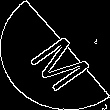M_NE: (18, 21, 92, 89)
